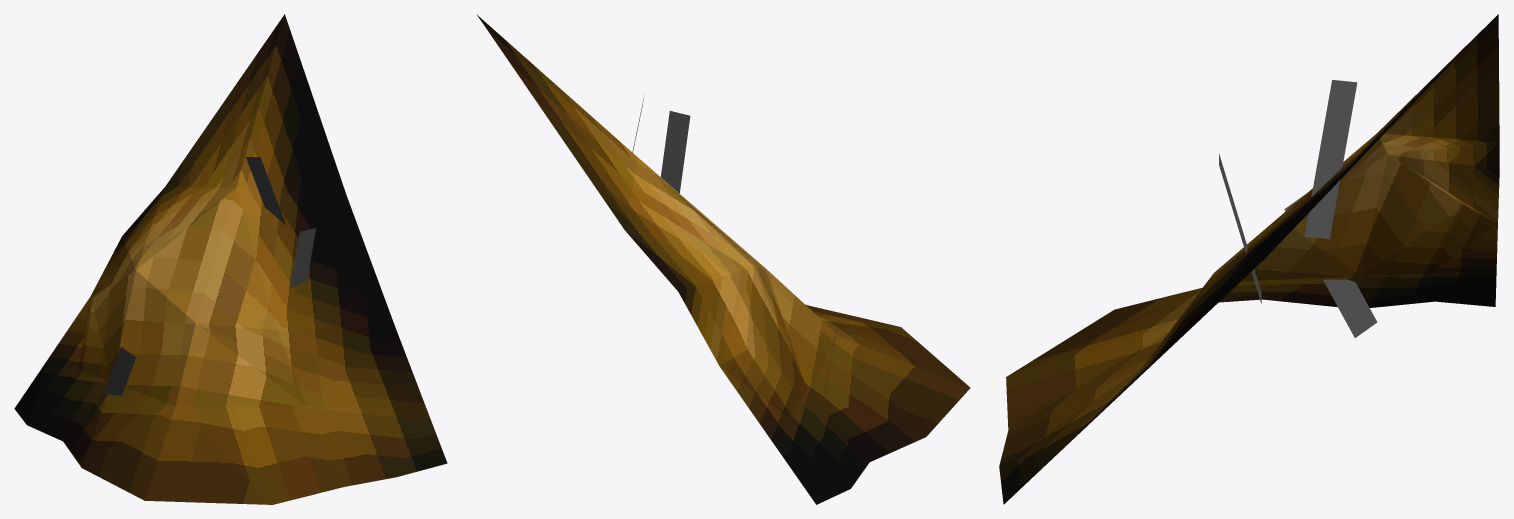
The model's file is Schmutzhaufen [Braun]_1505.glb.
3 renders of one model, left to right at view 1: azimuth 30°, elevation 25°; view 2: azimuth 150°, elevation 25°; view 3: azimuth 270°, elevation 25°, orthographic. The views are drawn at different scales.
Parts seen in each view (by area): view 1: pPlaneShape18, pPlaneShape20, pPlaneShape19, pPlaneShape21; view 2: pPlaneShape18, pPlaneShape19; view 3: pPlaneShape18, pPlaneShape20, pPlaneShape21.
Boxes of the visible parts, <box> form: pPlaneShape18: <box>14,14,447,504</box>; pPlaneShape20: <box>246,157,286,225</box>; pPlaneShape19: <box>290,228,315,288</box>; pPlaneShape21: <box>103,347,135,395</box>; pPlaneShape18: <box>477,15,970,504</box>; pPlaneShape19: <box>660,111,690,193</box>; pPlaneShape18: <box>999,14,1499,504</box>; pPlaneShape20: <box>1304,80,1357,239</box>; pPlaneShape21: <box>1284,195,1377,337</box>.
Bounding box in the file's own units: 0.1264 × 0.1407 × 0.1296.
Materials: 4 (1 with a texture image).
